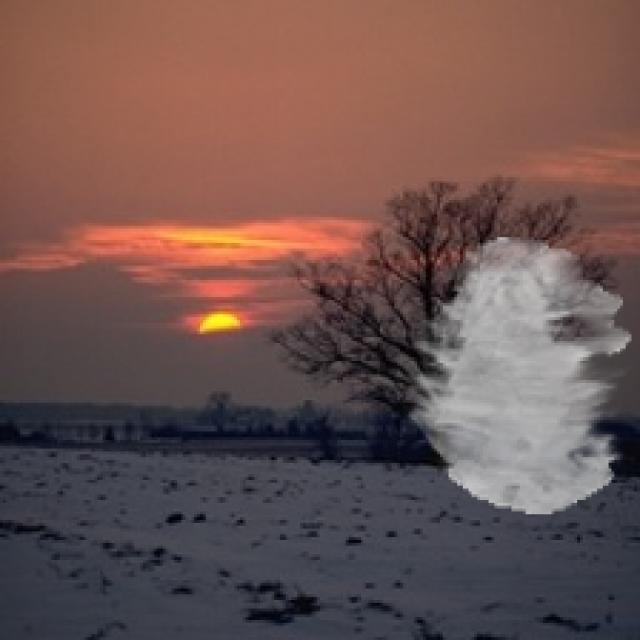smoke: (406, 237, 631, 514)
